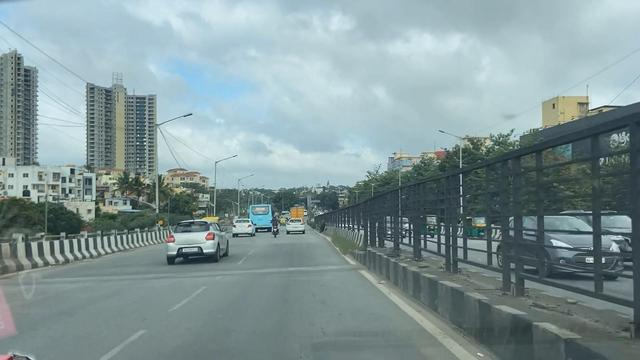HMV: (247, 200, 278, 243)
LMV: (163, 211, 233, 271), (266, 207, 287, 249), (281, 214, 309, 241), (227, 216, 256, 242)
